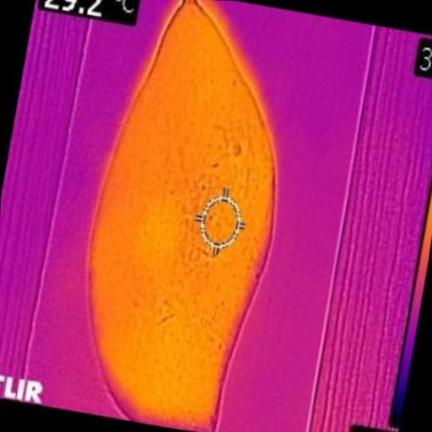mango: (88, 0, 273, 432)
